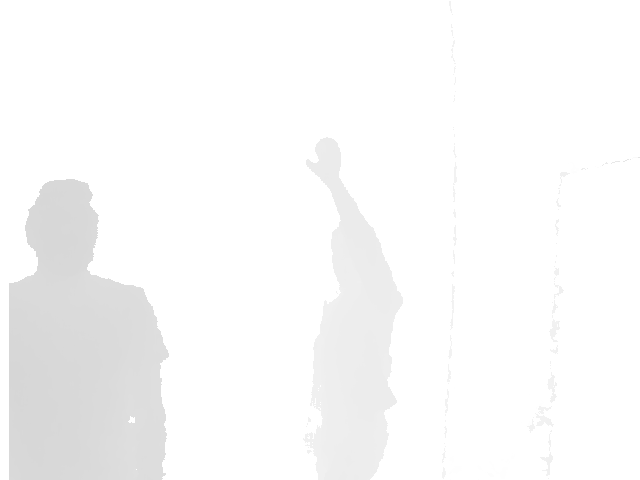hand: (305, 138, 342, 182)
head: (23, 177, 100, 278), (332, 221, 374, 296)
person: (9, 177, 171, 480), (305, 136, 405, 479)
